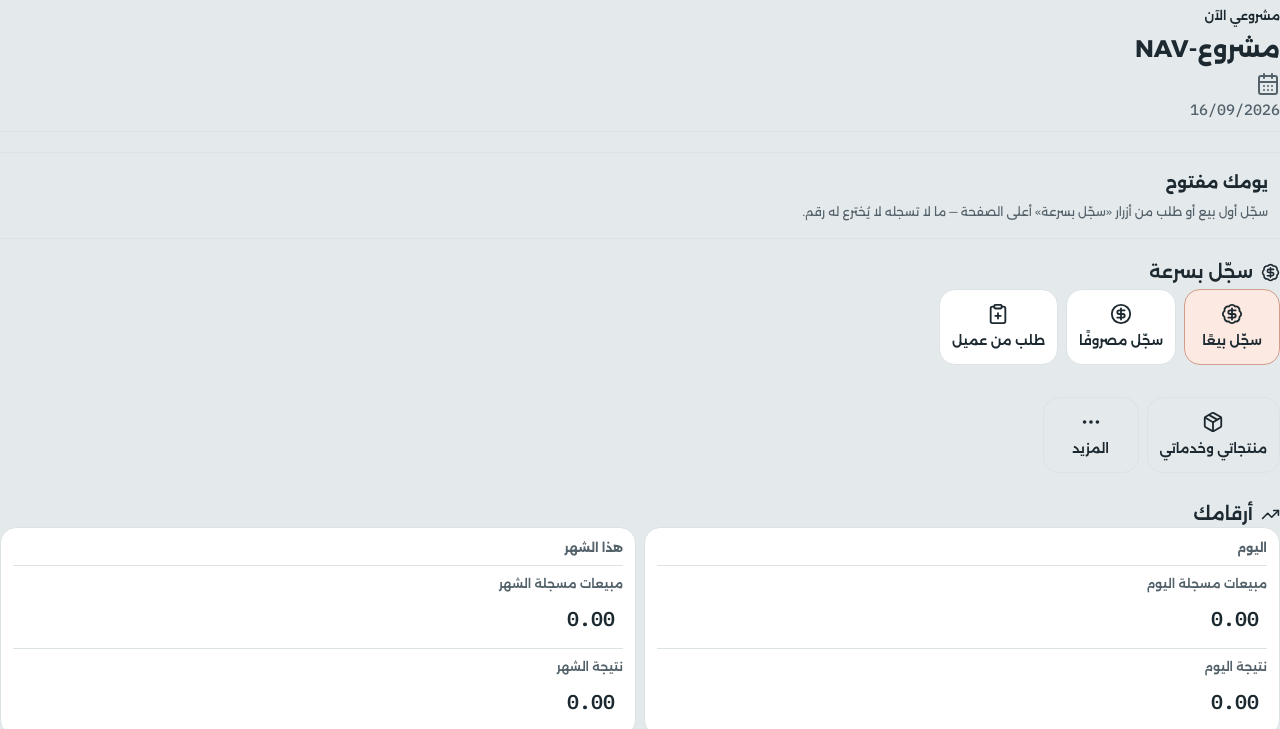
Test: NAV-001 — approved five-seat navigation › home hosts the quick-recording row and the sale sheet opens in place over it
Expected: the element with test id "home-quick-actions" shows "سجّل مصروفًا", [1066, 289, 1176, 365]
Expected: the element with test id "home-quick-actions" shows "طلب من عميل", [939, 289, 1058, 365]
What coordinates should you click on to do the following:
click the button "سجّل بيعًا"
I would click on:
 (1232, 327)
Its box is [1184, 289, 1279, 365].
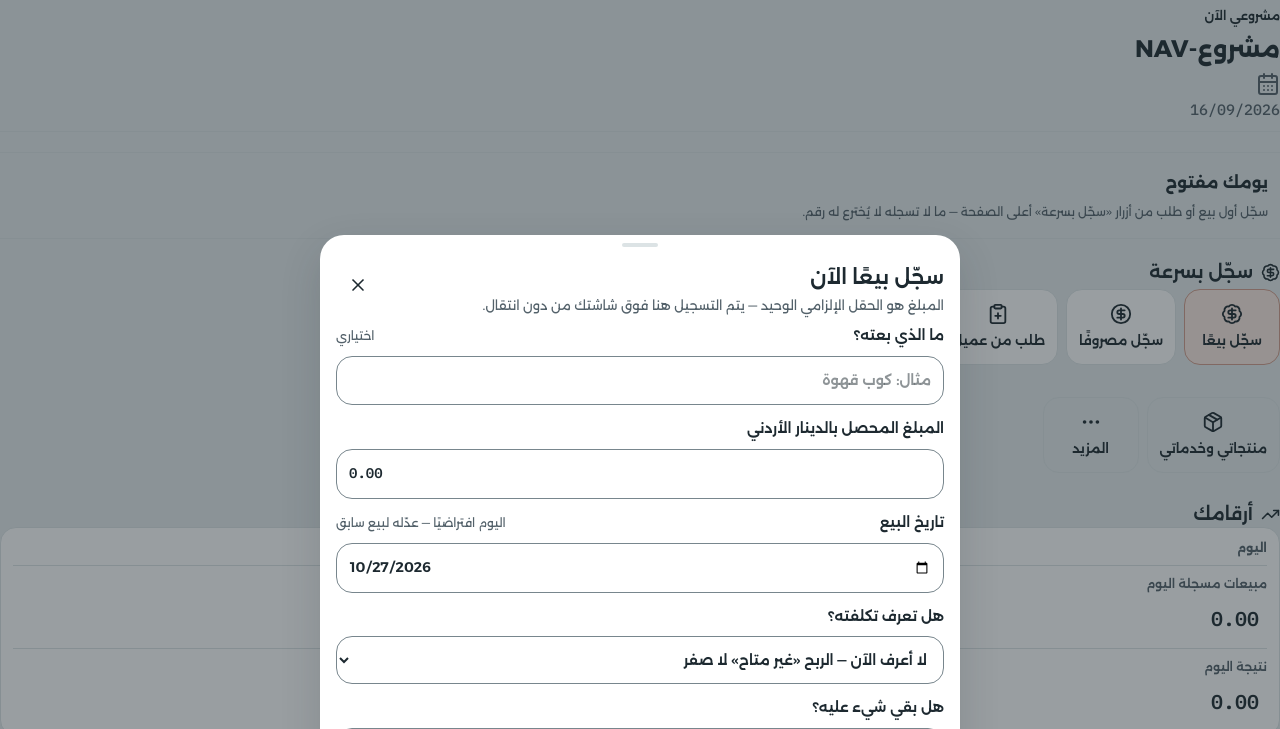
Expected: the heading "سجّل بيعًا الآن" is shown, [810, 265, 944, 289]
Expected: the field named "مبلغ البيع" is shown, [336, 449, 944, 499]
